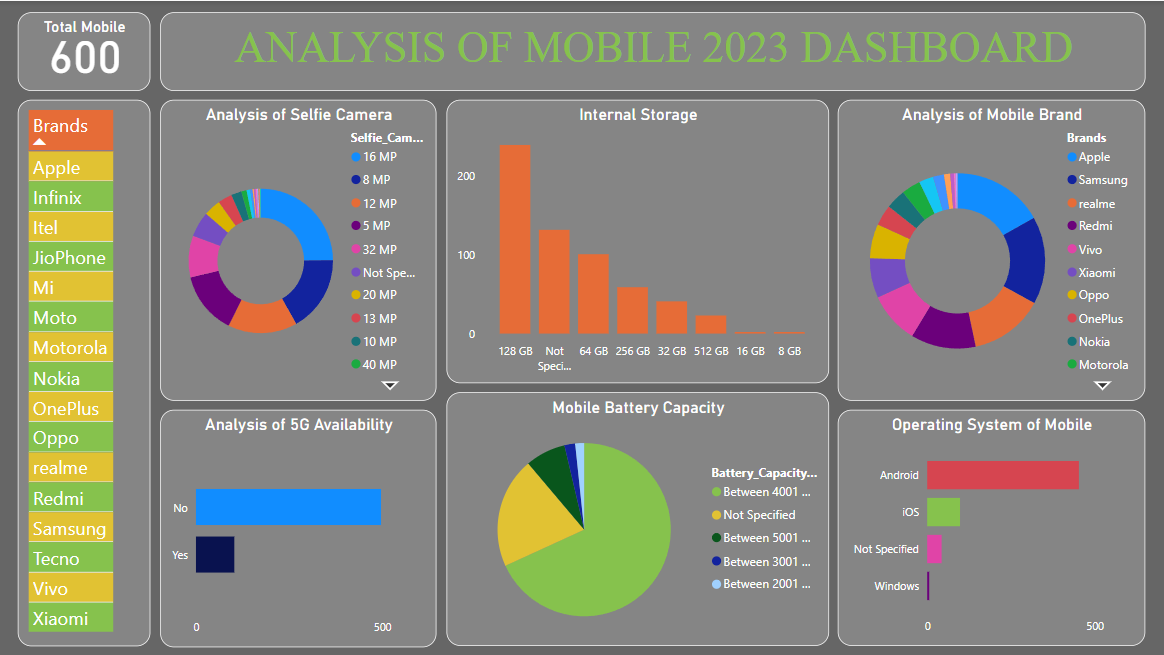

The dashboard page shown, as its layout file describes it:
{"tool":"powerbi","page":{"name":"Page 1","canvas":[1280,720],"ordinal":0},"visuals":[{"type":"card","title":"Total Mobile","fields":{"Values":["anils mobile.Total_Mobile"]},"box":[20.6,12.3,145.5,86.4],"z":0},{"type":"clusteredBarChart","title":"Operating System of Mobile","fields":{"Category":["anils mobile.Operating_System_Type"],"Y":["anils mobile.Total_Mobile"]},"box":[920.8,448.7,337.6,259.3],"z":2000},{"type":"pieChart","title":"Mobile Battery Capacity","fields":{"Category":["anils mobile.Battery_Capacity_Range"],"Y":["anils mobile.Total_Mobile"]},"box":[491.3,429.5,419.9,278.6],"z":3000},{"type":"clusteredBarChart","title":"Analysis of 5G Availability","fields":{"Category":["anils mobile.5G_Availability"],"Y":["anils mobile.Total_Mobile"]},"box":[177,448.7,303.3,260.7],"z":4000},{"type":"donutChart","title":"Analysis of Mobile Brand","fields":{"Category":["anils mobile.Brands"],"Y":["anils mobile.Total_Mobile"]},"box":[920.8,108.4,337.6,330.7],"z":5000},{"type":"clusteredColumnChart","title":"Internal Storage","fields":{"Category":["anils mobile.Internal_Storage"],"Y":["anils mobile.Total_Mobile"]},"box":[491.3,108.4,419.9,311.5],"z":6000},{"type":"donutChart","title":"Analysis of Selfie Camera","fields":{"Category":["anils mobile.Selfie_Camera"],"Y":["anils mobile.Total_Mobile"]},"box":[177,108.4,303.3,330.7],"z":7000},{"type":"textbox","box":[177,12.3,1081.3,86.4],"z":8000},{"type":"tableEx","fields":{"Values":["anils mobile.Brands"]},"box":[20.6,108.4,145.5,599.7],"z":9000}]}

Visuals, with their boxes in screenshot pixels (x1, y1, x2, y2), scaled from the page's 1280x720 canvas onto the 1164x655 screenshot:
"Total Mobile" card: [x1=19, y1=11, x2=151, y2=90]
"Operating System of Mobile" clusteredBarChart: [x1=837, y1=408, x2=1144, y2=644]
"Mobile Battery Capacity" pieChart: [x1=447, y1=391, x2=829, y2=644]
"Analysis of 5G Availability" clusteredBarChart: [x1=161, y1=408, x2=437, y2=645]
"Analysis of Mobile Brand" donutChart: [x1=837, y1=99, x2=1144, y2=399]
"Internal Storage" clusteredColumnChart: [x1=447, y1=99, x2=829, y2=382]
"Analysis of Selfie Camera" donutChart: [x1=161, y1=99, x2=437, y2=399]
textbox: [x1=161, y1=11, x2=1144, y2=90]
tableEx - anils mobile.Brands: [x1=19, y1=99, x2=151, y2=644]
